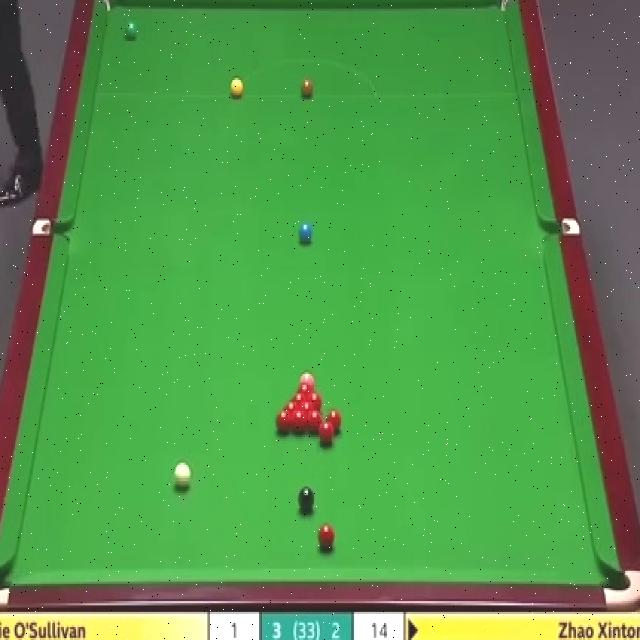black-ball: (297, 485, 314, 515)
blue-ball: (297, 221, 313, 247)
brown-ball: (299, 76, 314, 100)
green-ball: (123, 20, 138, 41)
pink-ball: (300, 371, 314, 386)
red-ball: (317, 522, 336, 552), (327, 408, 343, 436), (318, 420, 335, 445), (307, 409, 322, 436), (276, 410, 290, 436), (291, 410, 305, 434), (307, 391, 323, 407), (291, 390, 309, 402), (298, 400, 316, 411), (298, 383, 315, 394), (284, 399, 299, 410)
white-ball: (172, 462, 192, 492)
yellow-ball: (230, 75, 244, 100)
